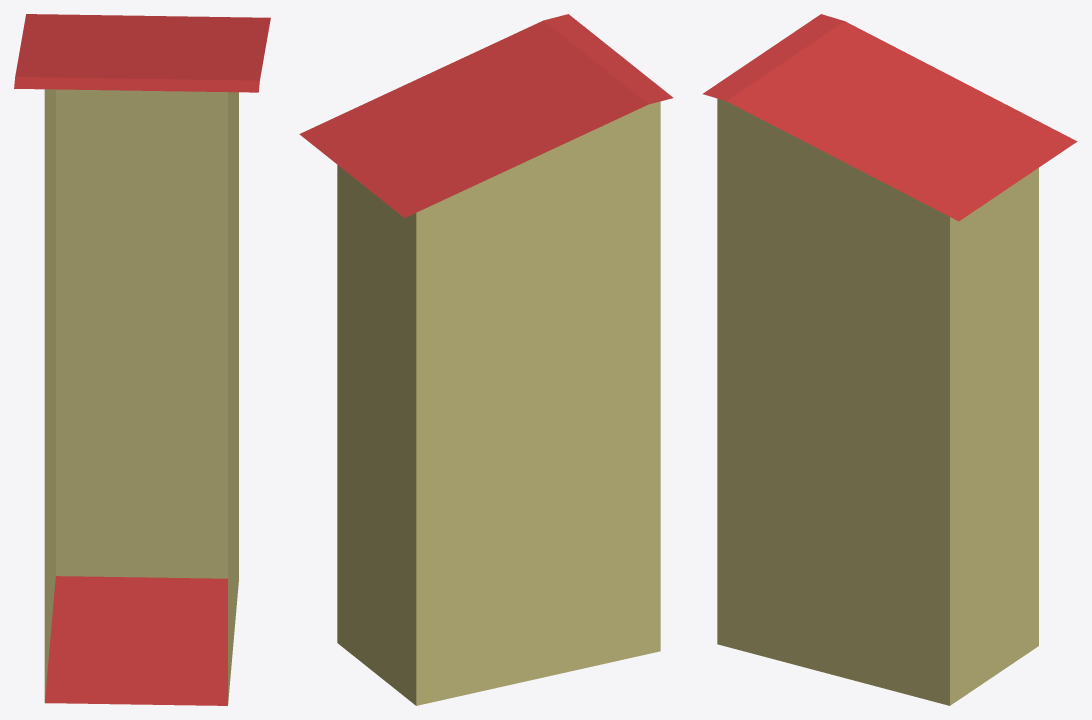
The picture shows the model from 3 angles, left to right: view 1: azimuth 30°, elevation 25°; view 2: azimuth 150°, elevation 25°; view 3: azimuth 270°, elevation 25°; orthographic projection. The views are drawn at different scales.
Bounding box in the file's own units: 6.23 × 6.67 × 10.99.
